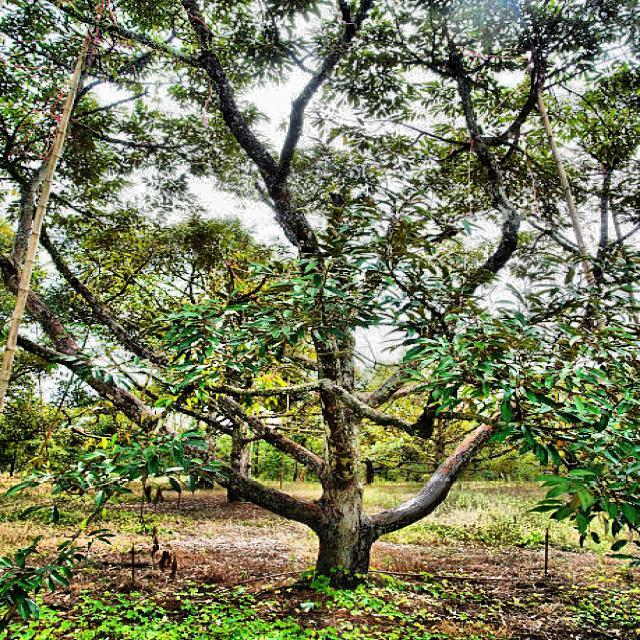arvore: (298, 276, 408, 588)
